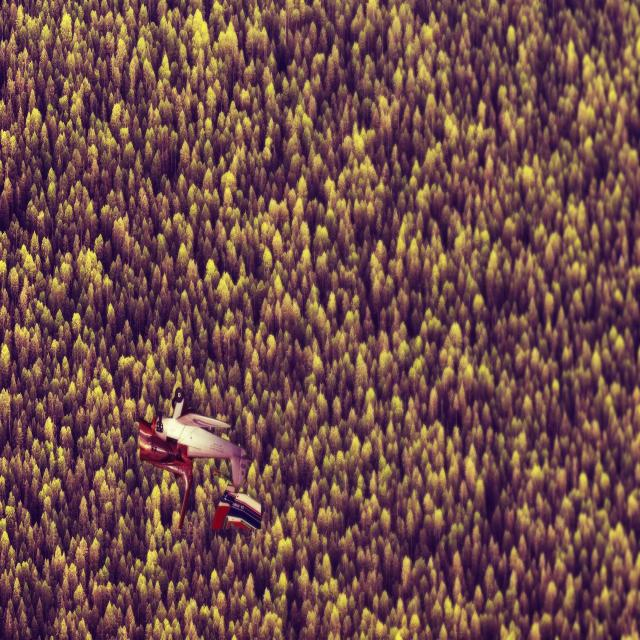airplane: (135, 387, 253, 530)
